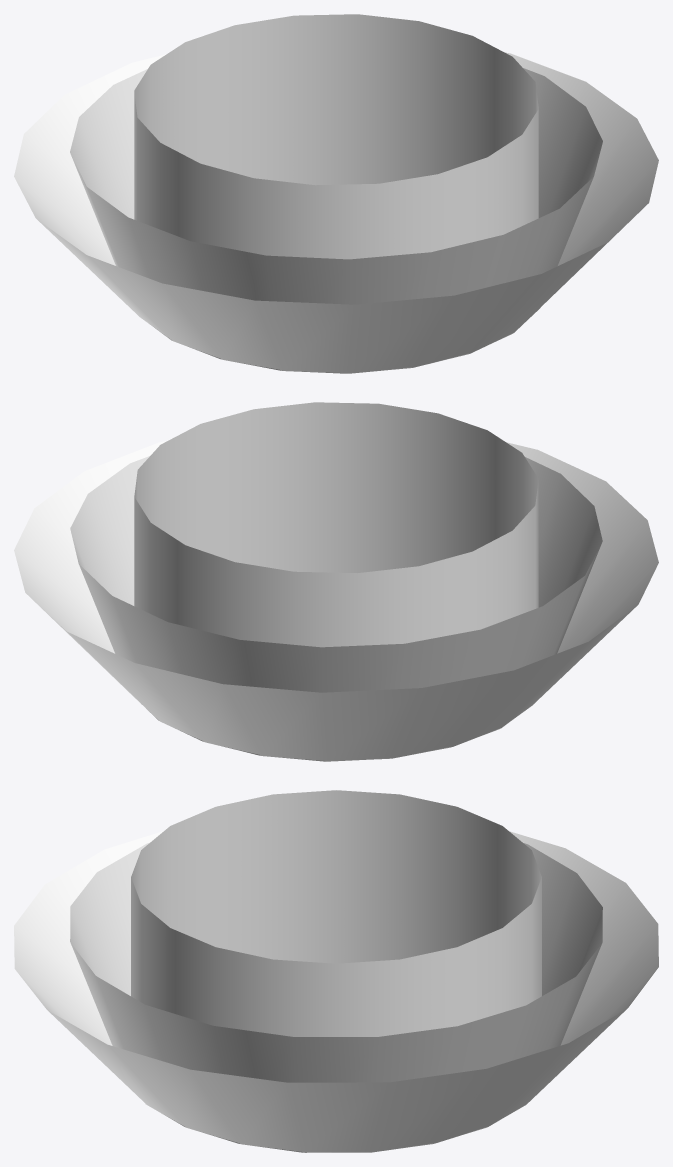
The model's file is OuterCircle.fbx.
3 renders of one model, top to bottom at view 1: azimuth 30°, elevation 25°; view 2: azimuth 150°, elevation 25°; view 3: azimuth 270°, elevation 25°, orthographic.
Parts seen in each view (by area): view 1: pCylinder1, pCylinder2, pCylinder3; view 2: pCylinder1, pCylinder2, pCylinder3; view 3: pCylinder1, pCylinder2, pCylinder3.
Boxes of the visible parts, x1,y1,x2,y2 form: pCylinder1: (134,14,538,259); pCylinder2: (14,52,658,373); pCylinder3: (70,68,602,373); pCylinder1: (134,402,538,647); pCylinder2: (14,441,658,761); pCylinder3: (70,456,602,761); pCylinder1: (131,790,541,1036); pCylinder2: (14,831,658,1152); pCylinder3: (70,842,602,1152).
Bounding box in the file's own units: 3.14 × 1 × 3.14.
2 materials, 1 textured.
